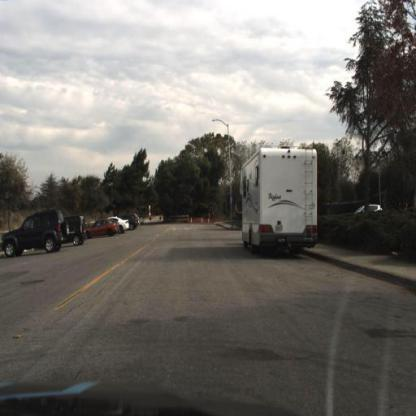car: (1, 207, 71, 261), (64, 210, 87, 251), (350, 194, 387, 219), (84, 217, 120, 241), (115, 217, 134, 235)
truck: (238, 141, 322, 262)
